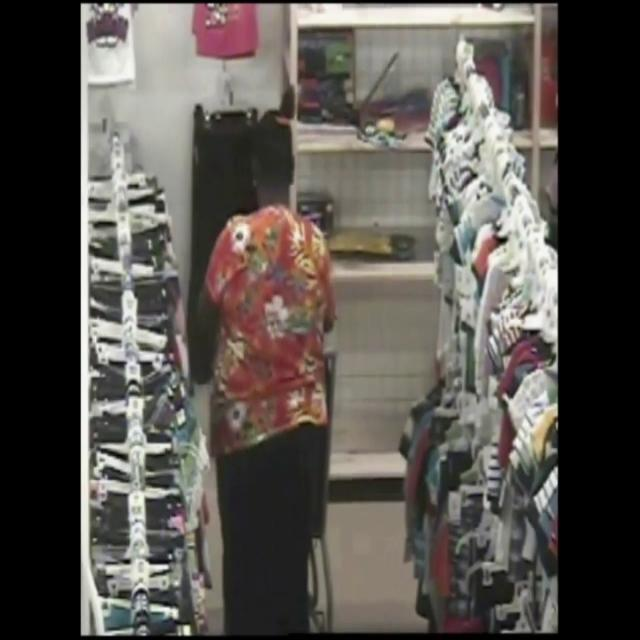normal: (152, 65, 379, 640)
